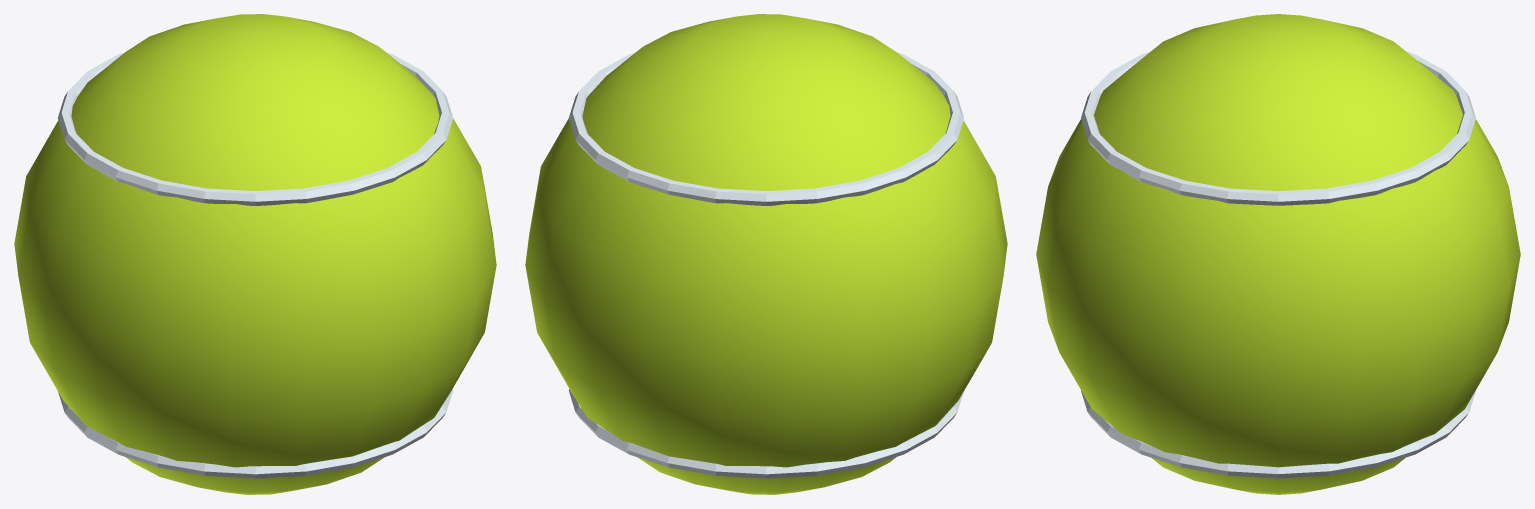
The model's file is shot_tennisball.glb.
3 views of the same model, side by side, from view 1: azimuth 30°, elevation 25°; view 2: azimuth 150°, elevation 25°; view 3: azimuth 270°, elevation 25° (orthographic).
Parts seen in each view (by area): view 1: shot_tennisball_TennisFelt.003, shot_tennisball_Snow.003; view 2: shot_tennisball_TennisFelt.003, shot_tennisball_Snow.003; view 3: shot_tennisball_TennisFelt.003, shot_tennisball_Snow.003.
Part boxes in pixels (<box>): shot_tennisball_TennisFelt.003: <box>14,14,496,494</box>; shot_tennisball_Snow.003: <box>57,52,453,478</box>; shot_tennisball_TennisFelt.003: <box>525,14,1007,494</box>; shot_tennisball_Snow.003: <box>568,52,964,478</box>; shot_tennisball_TennisFelt.003: <box>1036,14,1520,494</box>; shot_tennisball_Snow.003: <box>1081,51,1475,478</box>.
Size of the model in its own units: 2 by 2 by 2.
